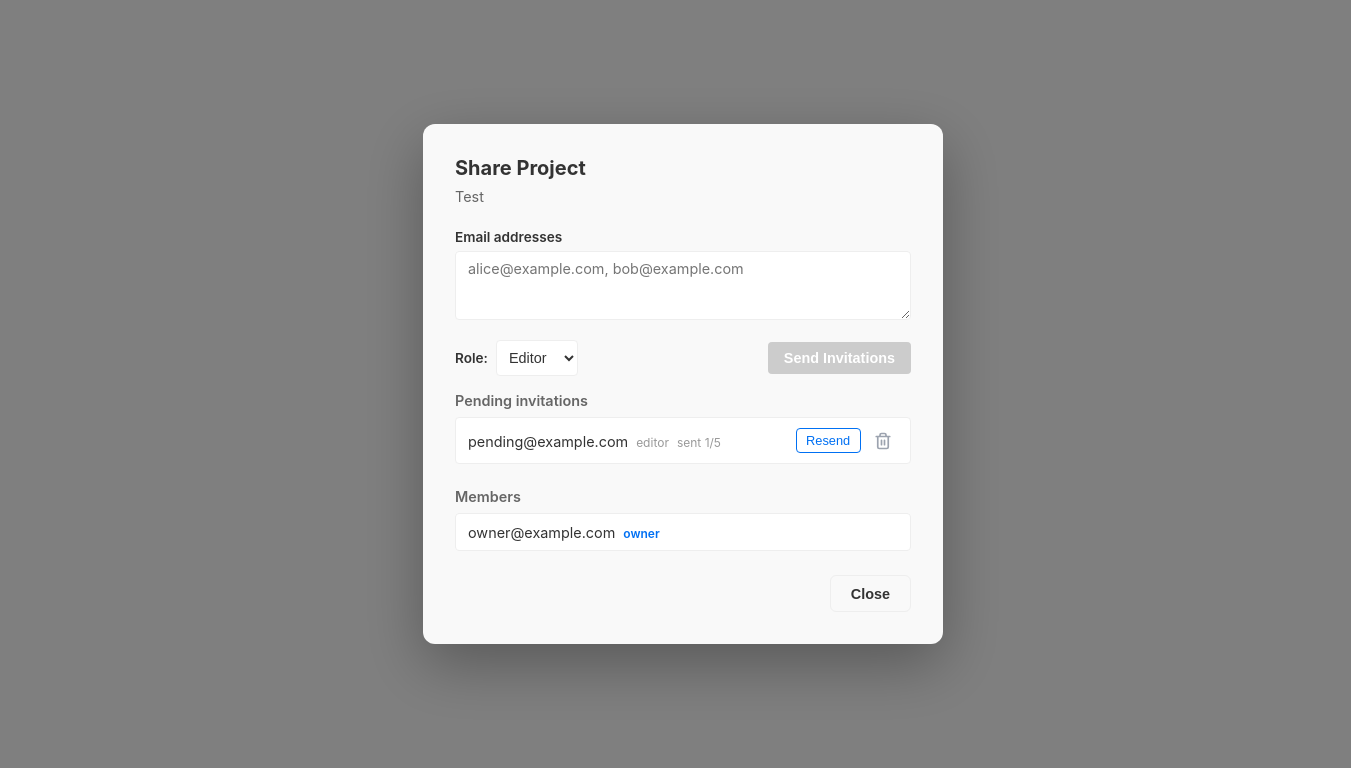
Scenario: ShareDialog invitations › revoking › keeps the invitation when the revoke confirm is cancelled
Click the button named "Revoke invitation" at (883, 441), box [869, 426, 898, 455]
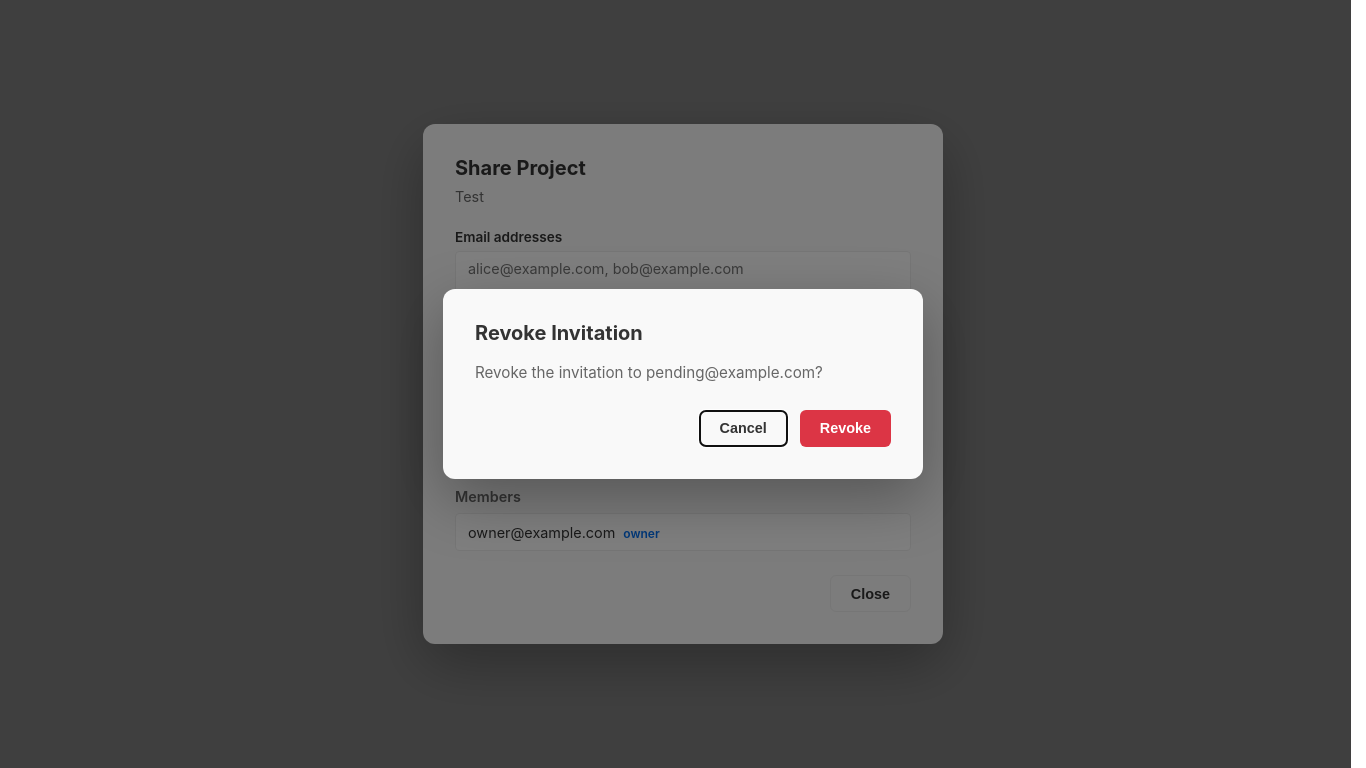
expect the dialog "Revoke Invitation" is shown: met, box [443, 289, 923, 479]
Click the button "Cancel" at (743, 428), box [699, 410, 788, 447]
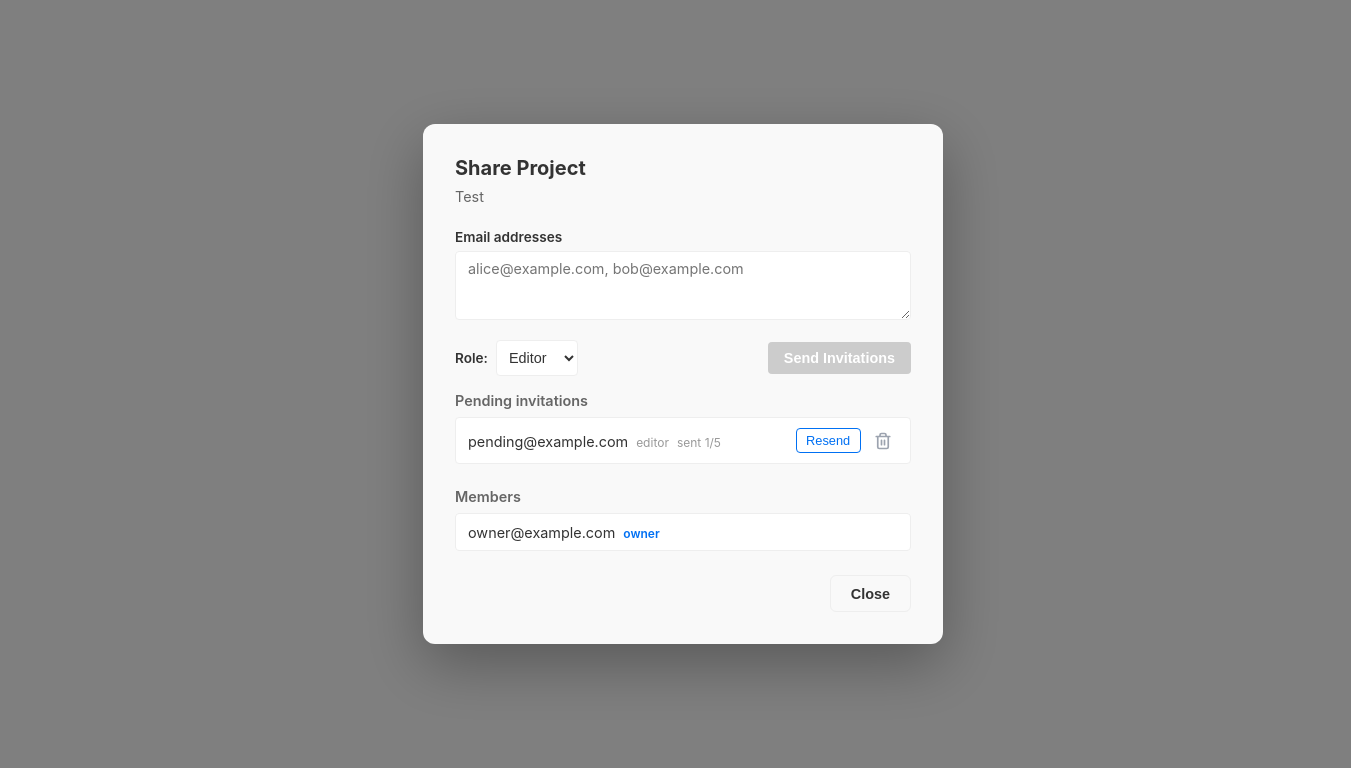
expect the text "pending@example.com" is shown: met, box [468, 433, 628, 450]
expect the heading "Revoke Invitation" is gone: met
